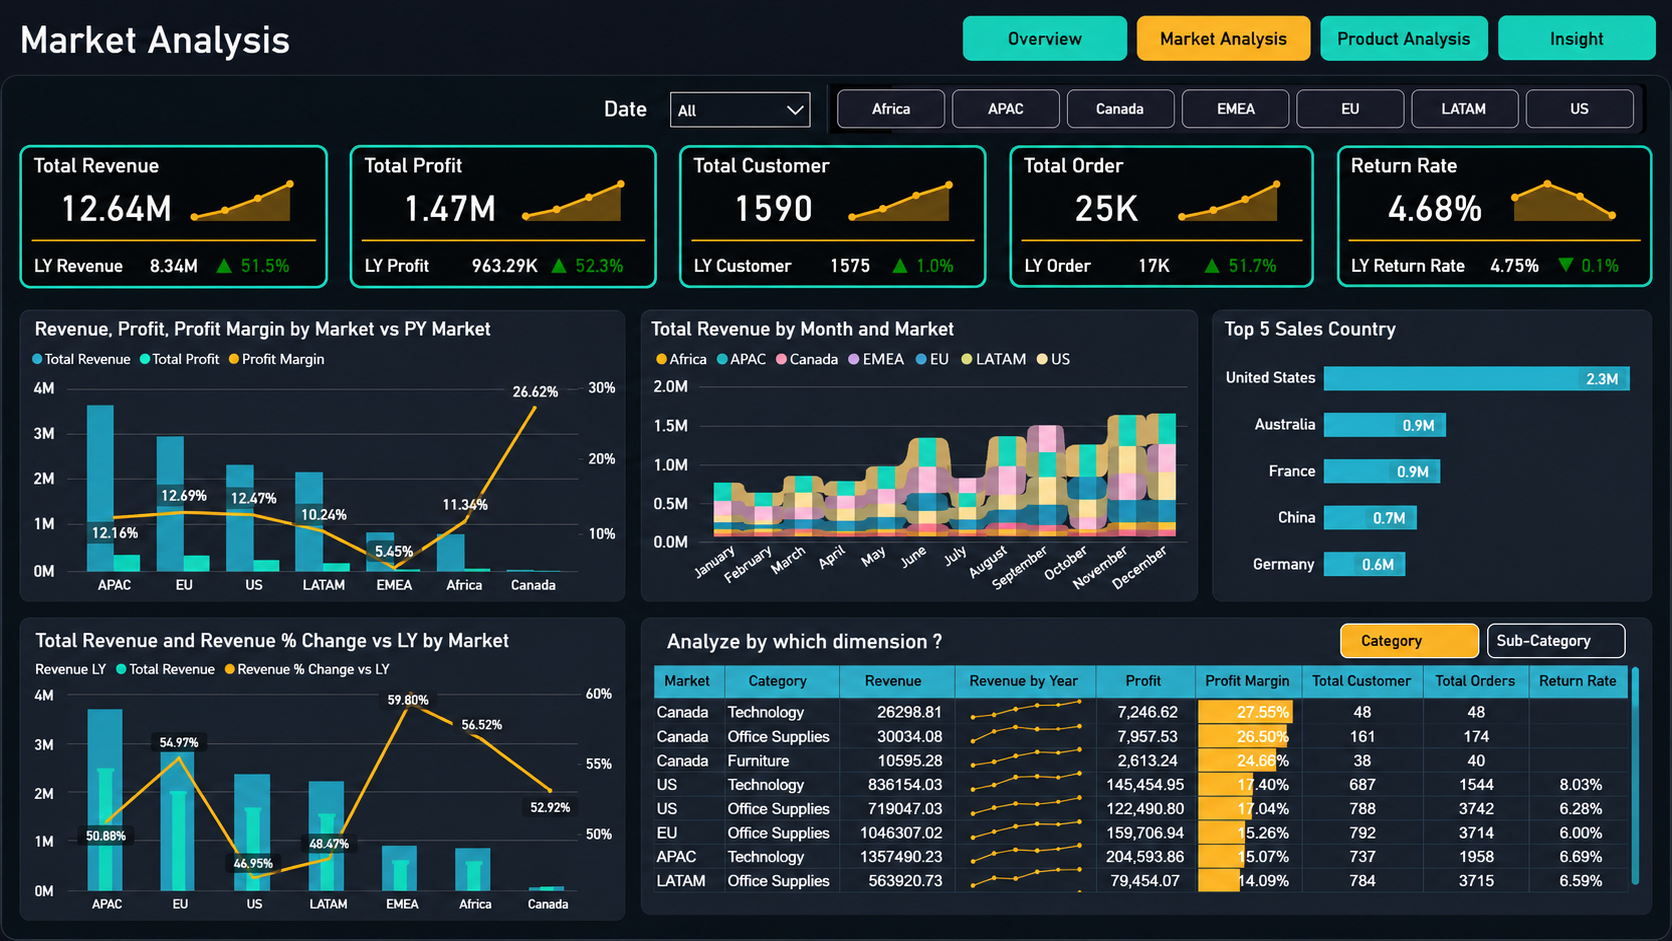

The dashboard page shown, as its layout file describes it:
{"tool":"powerbi","page":{"name":"Market Analysis","canvas":[1920,1080],"ordinal":1},"visuals":[{"type":"group","id":"g1","title":"Group 2","box":[965.1,105,935,56.3],"z":0,"group":"g7"},{"type":"shape","box":[965.1,107.1,935,54.3],"z":0,"group":"g1"},{"type":"shape","box":[739.6,107.4,213.5,52],"z":0,"group":"g3"},{"type":"group","id":"g2","title":"Group 1","box":[17.2,176.7,352.7,161.1],"z":0,"group":"g15"},{"type":"shape","box":[17.2,176.7,352.7,161.1],"z":0,"group":"g2"},{"type":"shape","box":[398.6,176.7,352.7,161.1],"z":0,"group":"g4"},{"type":"shape","box":[782.2,176.7,352.7,161.1],"z":0,"group":"g5"},{"type":"shape","box":[1165.8,176.7,352.7,161.1],"z":0,"group":"g6"},{"type":"shape","box":[1547.2,176.7,352.7,161.1],"z":0,"group":"g8"},{"type":"shape","box":[1037.2,680.3,857.7,52],"z":0,"group":"g10"},{"type":"advancedSlicerVisual","fields":{"Values":["Orders.Market"]},"box":[965.1,105,935,54],"z":1000,"group":"g1"},{"type":"group","id":"g3","title":"Group 1","box":[739.6,106.9,213.5,52.5],"z":1000,"group":"g7"},{"type":"slicer","fields":{"Values":["Orders.Order Date.Variation.Date Hierarchy.Year","Orders.Order Date.Variation.Date Hierarchy.Quarter","Orders.Order Date.Variation.Date Hierarchy.Month"]},"box":[815.5,106.9,118,48.8],"z":1000,"group":"g3"},{"type":"group","id":"g4","title":"Group 2","box":[398.6,176.7,352.7,161.1],"z":1000,"group":"g15"},{"type":"card","fields":{"Values":["Measure.Customer Detail String"]},"box":[1003.4,297.7,120.3,29.6],"z":1000,"group":"g5"},{"type":"card","fields":{"Values":["Measure.Return Rate Detail String"]},"box":[1768.4,297.7,120.3,29.6],"z":1000,"group":"g8"},{"type":"card","fields":{"Values":["Measure.Revenue Detail String"]},"box":[222.6,298.7,121.2,28.9],"z":1000,"group":"g2"},{"type":"card","fields":{"Values":["Measure.Profit Detail String"]},"box":[604,298.7,121.2,28.9],"z":1000,"group":"g4"},{"type":"card","fields":{"Values":["Measure.Orders Detail String"]},"box":[1371.2,298.7,121.2,28.9],"z":1000,"group":"g6"},{"type":"textbox","box":[1076.9,686,511.3,42.7],"z":1000,"group":"g10"},{"type":"shape","box":[18.1,352.9,713,311.3],"z":1500,"group":"g14"},{"type":"textbox","box":[764.6,115.4,70.8,41.3],"z":2000,"group":"g3"},{"type":"group","id":"g5","title":"Group 3","box":[782.2,176.7,351.2,162],"z":2000,"group":"g15"},{"type":"textbox","box":[792.4,297.7,151.8,38.3],"z":2000,"group":"g5"},{"type":"textbox","box":[1557.4,297.7,151.8,38.3],"z":2000,"group":"g8"},{"type":"textbox","box":[31.8,298.5,146.1,37.5],"z":2000,"group":"g2"},{"type":"textbox","box":[413.2,298.5,146.1,37.5],"z":2000,"group":"g4"},{"type":"textbox","box":[1180.4,298.5,146.1,37.5],"z":2000,"group":"g6"},{"type":"shape","box":[745,350.6,665,311.1],"z":2000,"group":"g13"},{"type":"lineClusteredColumnComboChart","title":"Revenue, Profit, Profit Margin by Market vs PY Market","fields":{"Category":["Orders.Market"],"Y":["Measure.Total Revenue","Measure.Total Profit"],"Y2":["Measure.Profit Margin"]},"box":[25.3,352.9,713,311.3],"z":2000,"group":"g14"},{"type":"advancedSlicerVisual","fields":{"Values":["Parameter 2.Parameter"]},"box":[1523.2,682.2,365.2,45.9],"z":2000,"group":"g10"},{"type":"shape","box":[740.9,733.5,1154.1,329.7],"z":2000,"group":"g9"},{"type":"group","id":"g6","title":"Group 4","box":[1165.8,176.7,353.4,162],"z":3000,"group":"g15"},{"type":"card","fields":{"Values":["Measure.Total Revenue"]},"box":[31.8,214.2,202.4,56.2],"z":3000,"group":"g2"},{"type":"card","fields":{"Values":["Measure.Total Profit"]},"box":[413.2,214.2,202.4,56.2],"z":3000,"group":"g4"},{"type":"card","fields":{"Values":["Measure.Total Customer"]},"box":[796.8,214.2,202.4,56.2],"z":3000,"group":"g5"},{"type":"card","fields":{"Values":["Measure.Total Orders"]},"box":[1180.4,214.2,202.4,56.2],"z":3000,"group":"g6"},{"type":"card","fields":{"Values":["Measure.Return Rate"]},"box":[1561.8,214.2,202.4,56.2],"z":3000,"group":"g8"},{"type":"shape","box":[1427.5,350.6,467.5,313],"z":3000,"group":"g12"},{"type":"ribbonChart","fields":{"Category":["Orders.Order Date.Variation.Date Hierarchy.Month"],"Y":["Measure.Total Revenue"],"Series":["Orders.Market"]},"box":[750.8,354.1,664.1,309.6],"z":3000,"group":"g13"},{"type":"tableEx","fields":{"Values":["Orders.Market","Orders.Category","Measure.Total Revenue","SparklineData(Measure.Total Revenue_[Orders.Order Date.Variation.Date Hierarchy.Year])","Measure.Total Profit","Measure.Profit Margin","Measure.Total Customer","Measure.Total Orders","Measure.Return Rate"]},"box":[751.6,734.5,1137.4,327.7],"z":3000,"group":"g9"},{"type":"group","id":"g7","title":"Filter Layer","box":[739.6,105,1160.5,56.3],"z":4000},{"type":"group","id":"g8","title":"Group 5","box":[1547.2,176.7,353.4,160],"z":4000,"group":"g15"},{"type":"textbox","box":[25.5,179.8,204.5,43.1],"z":4000,"group":"g2"},{"type":"textbox","box":[406.9,179.8,204.5,43.1],"z":4000,"group":"g4"},{"type":"textbox","box":[790.5,179.8,204.5,43.1],"z":4000,"group":"g5"},{"type":"textbox","box":[1174.1,179.8,204.5,43.1],"z":4000,"group":"g6"},{"type":"textbox","box":[1555.5,179.8,204.5,43.1],"z":4000,"group":"g8"},{"type":"barChart","title":"Top 5 Sales Country","fields":{"Y":["Measure.Total Revenue"],"Category":["Orders.Country"]},"box":[1439.5,352.9,468.7,311.3],"z":4000,"group":"g12"},{"type":"group","id":"g9","title":"Group 10","box":[740.9,733.5,1154.1,329.7],"z":4500},{"type":"card","fields":{"Values":["Measure.LY Order"]},"box":[1274.8,296,116.4,30.4],"z":5000,"group":"g6"},{"type":"card","fields":{"Values":["Measure.LY Customer"]},"box":[923.8,297.7,116.6,29.6],"z":5000,"group":"g5"},{"type":"card","fields":{"Values":["Measure.LY Return Rate"]},"box":[1688.8,297.7,116.6,29.6],"z":5000,"group":"g8"},{"type":"card","fields":{"Values":["Measure.LY Profit"]},"box":[516.8,298.1,117.6,31.1],"z":5000,"group":"g4"},{"type":"card","fields":{"Values":["Measure.Revenue PY"]},"box":[138,299.8,117.6,31.1],"z":5000,"group":"g2"},{"type":"group","id":"g10","title":"Group 9","box":[1037.2,680.3,857.7,52.2],"z":5625},{"type":"shape","box":[31.8,266.6,323.5,31.9],"z":6000,"group":"g2"},{"type":"shape","box":[413.2,266.6,323.5,31.9],"z":6000,"group":"g4"},{"type":"shape","box":[796.8,266.6,323.5,31.9],"z":6000,"group":"g5"},{"type":"shape","box":[1180.4,266.6,323.5,31.9],"z":6000,"group":"g6"},{"type":"shape","box":[1561.8,266.6,323.5,31.9],"z":6000,"group":"g8"},{"type":"group","id":"g11","title":"Group 8","box":[18.8,734.6,711.7,327.7],"z":6750},{"type":"lineChart","fields":{"Category":["Orders.Order Date.Variation.Date Hierarchy.Year"],"Y":["Measure.Total Revenue"]},"box":[202.9,199.2,135.7,67.5],"z":7000,"group":"g2"},{"type":"lineChart","fields":{"Category":["Orders.Order Date.Variation.Date Hierarchy.Year"],"Y":["Measure.Total Profit"]},"box":[584.3,199.2,135.7,67.5],"z":7000,"group":"g4"},{"type":"lineChart","fields":{"Category":["Orders.Order Date.Variation.Date Hierarchy.Year"],"Y":["Measure.Total Customer"]},"box":[967.9,199.2,135.7,67.5],"z":7000,"group":"g5"},{"type":"lineChart","fields":{"Category":["Orders.Order Date.Variation.Date Hierarchy.Year"],"Y":["Measure.Total Orders"]},"box":[1351.5,199.2,135.7,67.5],"z":7000,"group":"g6"},{"type":"lineChart","fields":{"Category":["Orders.Order Date.Variation.Date Hierarchy.Year"],"Y":["Measure.Return Rate"]},"box":[1732.9,199.2,135.7,67.5],"z":7000,"group":"g8"},{"type":"group","id":"g12","title":"Group 7","box":[1427.5,350.6,480,313],"z":7875},{"type":"shape","box":[18.8,734.6,703.5,328.3],"z":8000,"group":"g11"},{"type":"lineStackedColumnComboChart","fields":{"Y":["Measure.Total Revenue"],"Category":["Orders.Market"],"Y2":["Measure.Revenue % Change vs LY"]},"box":[26.4,735,704.5,327.7],"z":9000,"group":"g11"},{"type":"group","id":"g13","title":"Group 6","box":[745,350.6,669.9,313],"z":10000},{"type":"group","id":"g14","title":"Group 5","box":[18.1,352.9,720.2,311.3],"z":11031},{"type":"group","id":"g15","title":"Score Card Layer","box":[17.2,176.7,1883.4,162],"z":12062},{"type":"shape","box":[0,0,1920,85.6],"z":12125},{"type":"pageNavigator","box":[1020.6,16.3,881.3,54.3],"z":12250},{"type":"textbox","box":[0,12.5,442.4,62.6],"z":12500}]}

Visuals, with their boxes in screenshot pixels (x1, y1, x2, y2), scaled from the page's 1920x1080 canvas onto the 1672x941 screenshot:
"Group 2" group: select_region(840, 91, 1655, 141)
shape: select_region(840, 93, 1655, 141)
shape: select_region(644, 94, 830, 139)
"Group 1" group: select_region(15, 154, 322, 294)
shape: select_region(15, 154, 322, 294)
shape: select_region(347, 154, 654, 294)
shape: select_region(681, 154, 988, 294)
shape: select_region(1015, 154, 1322, 294)
shape: select_region(1347, 154, 1654, 294)
shape: select_region(903, 593, 1650, 638)
advancedSlicerVisual - Orders.Market: select_region(840, 91, 1655, 139)
"Group 1" group: select_region(644, 93, 830, 139)
slicer - Orders.Order Date.Variation.Date Hierarchy.Year x Orders.Order Date.Variation.Date Hierarchy.Quarter: select_region(710, 93, 813, 136)
"Group 2" group: select_region(347, 154, 654, 294)
card - Measure.Customer Detail String: select_region(874, 259, 979, 285)
card - Measure.Return Rate Detail String: select_region(1540, 259, 1645, 285)
card - Measure.Revenue Detail String: select_region(194, 260, 299, 285)
card - Measure.Profit Detail String: select_region(526, 260, 632, 285)
card - Measure.Orders Detail String: select_region(1194, 260, 1300, 285)
textbox: select_region(938, 598, 1383, 635)
shape: select_region(16, 307, 637, 579)
textbox: select_region(666, 101, 727, 137)
"Group 3" group: select_region(681, 154, 987, 295)
textbox: select_region(690, 259, 822, 293)
textbox: select_region(1356, 259, 1488, 293)
textbox: select_region(28, 260, 155, 293)
textbox: select_region(360, 260, 487, 293)
textbox: select_region(1028, 260, 1155, 293)
shape: select_region(649, 305, 1228, 577)
"Revenue, Profit, Profit Margin by Market vs PY Market" lineClusteredColumnComboChart: select_region(22, 307, 643, 579)
advancedSlicerVisual - Parameter 2.Parameter: select_region(1326, 594, 1644, 634)
shape: select_region(645, 639, 1650, 926)
"Group 4" group: select_region(1015, 154, 1323, 295)
card - Measure.Total Revenue: select_region(28, 187, 204, 236)
card - Measure.Total Profit: select_region(360, 187, 536, 236)
card - Measure.Total Customer: select_region(694, 187, 870, 236)
card - Measure.Total Orders: select_region(1028, 187, 1204, 236)
card - Measure.Return Rate: select_region(1360, 187, 1536, 236)
shape: select_region(1243, 305, 1650, 578)
ribbonChart - Orders.Order Date.Variation.Date Hierarchy.Month x Measure.Total Revenue: select_region(654, 309, 1232, 578)
tableEx - Orders.Market x Orders.Category: select_region(655, 640, 1645, 925)
"Filter Layer" group: select_region(644, 91, 1655, 141)
"Group 5" group: select_region(1347, 154, 1655, 293)
textbox: select_region(22, 157, 200, 194)
textbox: select_region(354, 157, 532, 194)
textbox: select_region(688, 157, 866, 194)
textbox: select_region(1022, 157, 1201, 194)
textbox: select_region(1355, 157, 1533, 194)
"Top 5 Sales Country" barChart: select_region(1254, 307, 1662, 579)
"Group 10" group: select_region(645, 639, 1650, 926)
card - Measure.LY Order: select_region(1110, 258, 1212, 284)
card - Measure.LY Customer: select_region(804, 259, 906, 285)
card - Measure.LY Return Rate: select_region(1471, 259, 1572, 285)
card - Measure.LY Profit: select_region(450, 260, 552, 287)
card - Measure.Revenue PY: select_region(120, 261, 223, 288)
"Group 9" group: select_region(903, 593, 1650, 638)
shape: select_region(28, 232, 309, 260)
shape: select_region(360, 232, 642, 260)
shape: select_region(694, 232, 976, 260)
shape: select_region(1028, 232, 1310, 260)
shape: select_region(1360, 232, 1642, 260)
"Group 8" group: select_region(16, 640, 636, 926)
lineChart - Orders.Order Date.Variation.Date Hierarchy.Year x Measure.Total Revenue: select_region(177, 174, 295, 232)
lineChart - Orders.Order Date.Variation.Date Hierarchy.Year x Measure.Total Profit: select_region(509, 174, 627, 232)
lineChart - Orders.Order Date.Variation.Date Hierarchy.Year x Measure.Total Customer: select_region(843, 174, 961, 232)
lineChart - Orders.Order Date.Variation.Date Hierarchy.Year x Measure.Total Orders: select_region(1177, 174, 1295, 232)
lineChart - Orders.Order Date.Variation.Date Hierarchy.Year x Measure.Return Rate: select_region(1509, 174, 1627, 232)
"Group 7" group: select_region(1243, 305, 1661, 578)
shape: select_region(16, 640, 629, 926)
lineStackedColumnComboChart - Measure.Total Revenue x Orders.Market: select_region(23, 640, 636, 926)
"Group 6" group: select_region(649, 305, 1232, 578)
"Group 5" group: select_region(16, 307, 643, 579)
"Score Card Layer" group: select_region(15, 154, 1655, 295)
shape: select_region(0, 0, 1671, 75)
pageNavigator: select_region(889, 14, 1656, 62)
textbox: select_region(0, 11, 385, 65)
